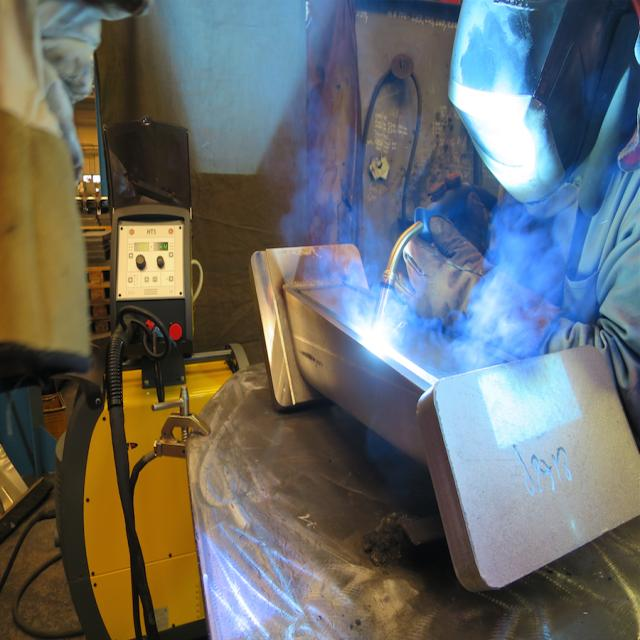welding: (365, 320, 392, 351)
